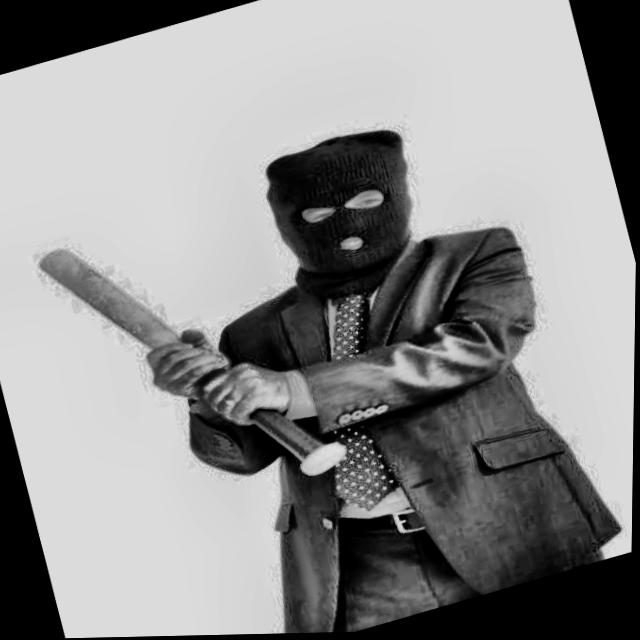robbery: (29, 111, 632, 634)
tongkat pemukul: (22, 229, 356, 485)
